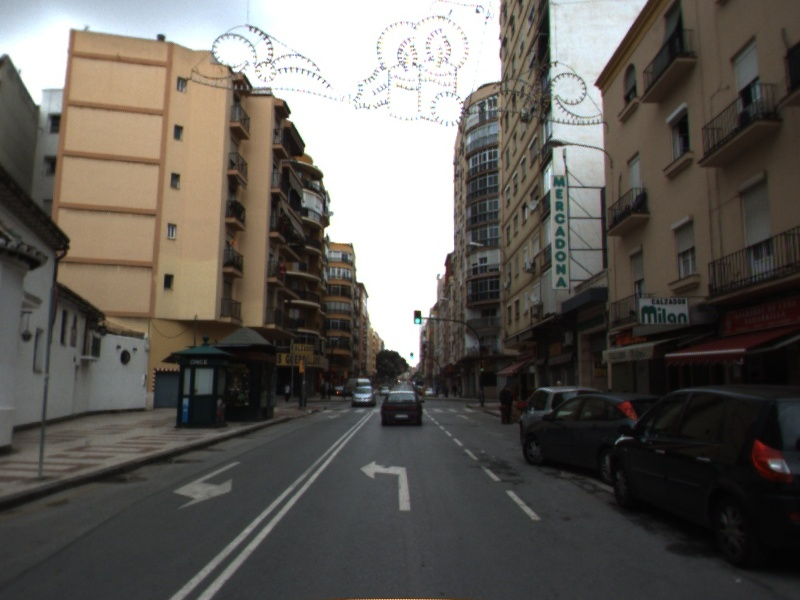LEFT: (359, 459, 412, 512)
